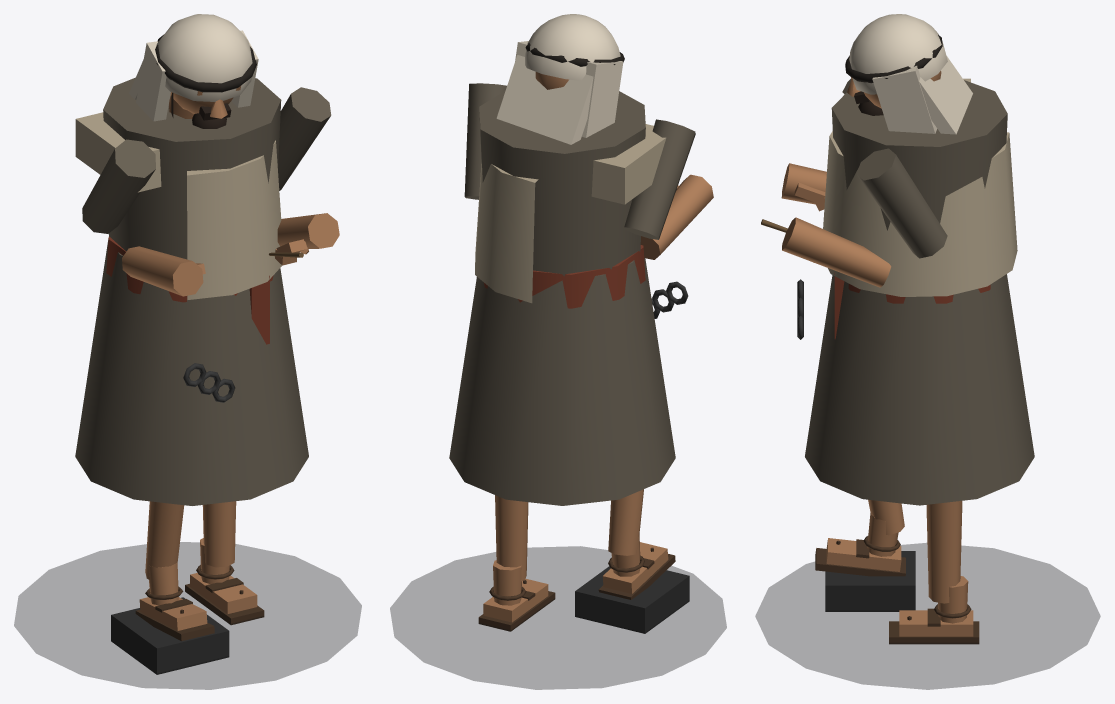
Rendered from actor-fisherman-70d229e9.glb.
3 renders of one model, left to right at view 1: azimuth 30°, elevation 25°; view 2: azimuth 150°, elevation 25°; view 3: azimuth 270°, elevation 25°, orthographic. The views are drawn at different scales.
Parts seen in each view (by area): view 1: actor-fisherman, head-complex, foot-l, foot-r; view 2: actor-fisherman, head-complex, foot-r, foot-l; view 3: actor-fisherman, head-complex, foot-r, foot-l.
Boxes of the visible parts, x1,y1,x2,y2 form: actor-fisherman: (14,77,361,689); head-complex: (129,14,258,128); foot-l: (135,563,214,641); foot-r: (185,538,264,624); actor-fisherman: (390,83,726,689); head-complex: (496,14,624,144); foot-r: (478,560,555,631); foot-l: (598,534,675,599); actor-fisherman: (755,78,1100,689); head-complex: (845,14,972,134); foot-r: (889,576,979,644); foot-l: (815,513,905,576).
Size of the model in its own units: 0.84 by 1.61 by 0.84.
